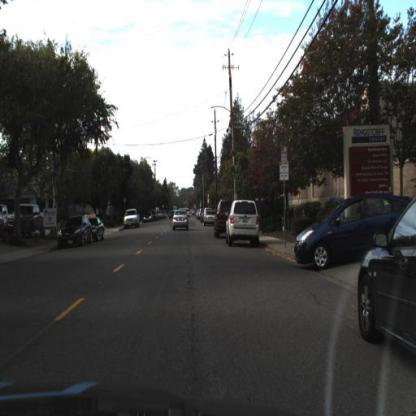car: (358, 197, 416, 361), (295, 194, 406, 267), (227, 197, 261, 247), (6, 203, 47, 236), (56, 214, 92, 250), (56, 215, 92, 251), (214, 199, 229, 240), (90, 214, 106, 245), (91, 213, 107, 244), (171, 208, 189, 234), (123, 207, 140, 234), (171, 209, 190, 230), (203, 209, 217, 228), (142, 211, 155, 227)
